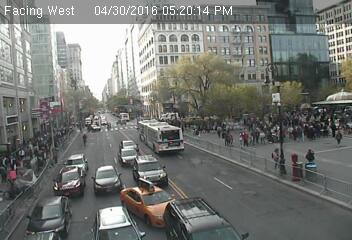neg: (324, 42, 350, 77), (127, 193, 153, 227), (205, 188, 229, 220), (166, 48, 185, 73), (248, 180, 267, 205), (275, 26, 293, 49), (313, 22, 329, 44), (255, 24, 271, 44), (207, 40, 222, 61), (134, 80, 149, 100), (289, 61, 304, 81), (277, 201, 291, 220), (119, 115, 133, 133), (201, 87, 215, 105), (234, 70, 245, 85), (177, 167, 187, 180), (260, 82, 268, 93), (192, 88, 200, 99)
pos: (1, 164, 24, 197), (301, 147, 321, 173), (269, 147, 288, 172), (48, 142, 64, 164), (239, 129, 254, 148), (334, 129, 348, 148), (24, 140, 38, 159), (257, 129, 269, 146), (79, 132, 91, 147), (214, 124, 225, 139), (105, 122, 113, 132)
